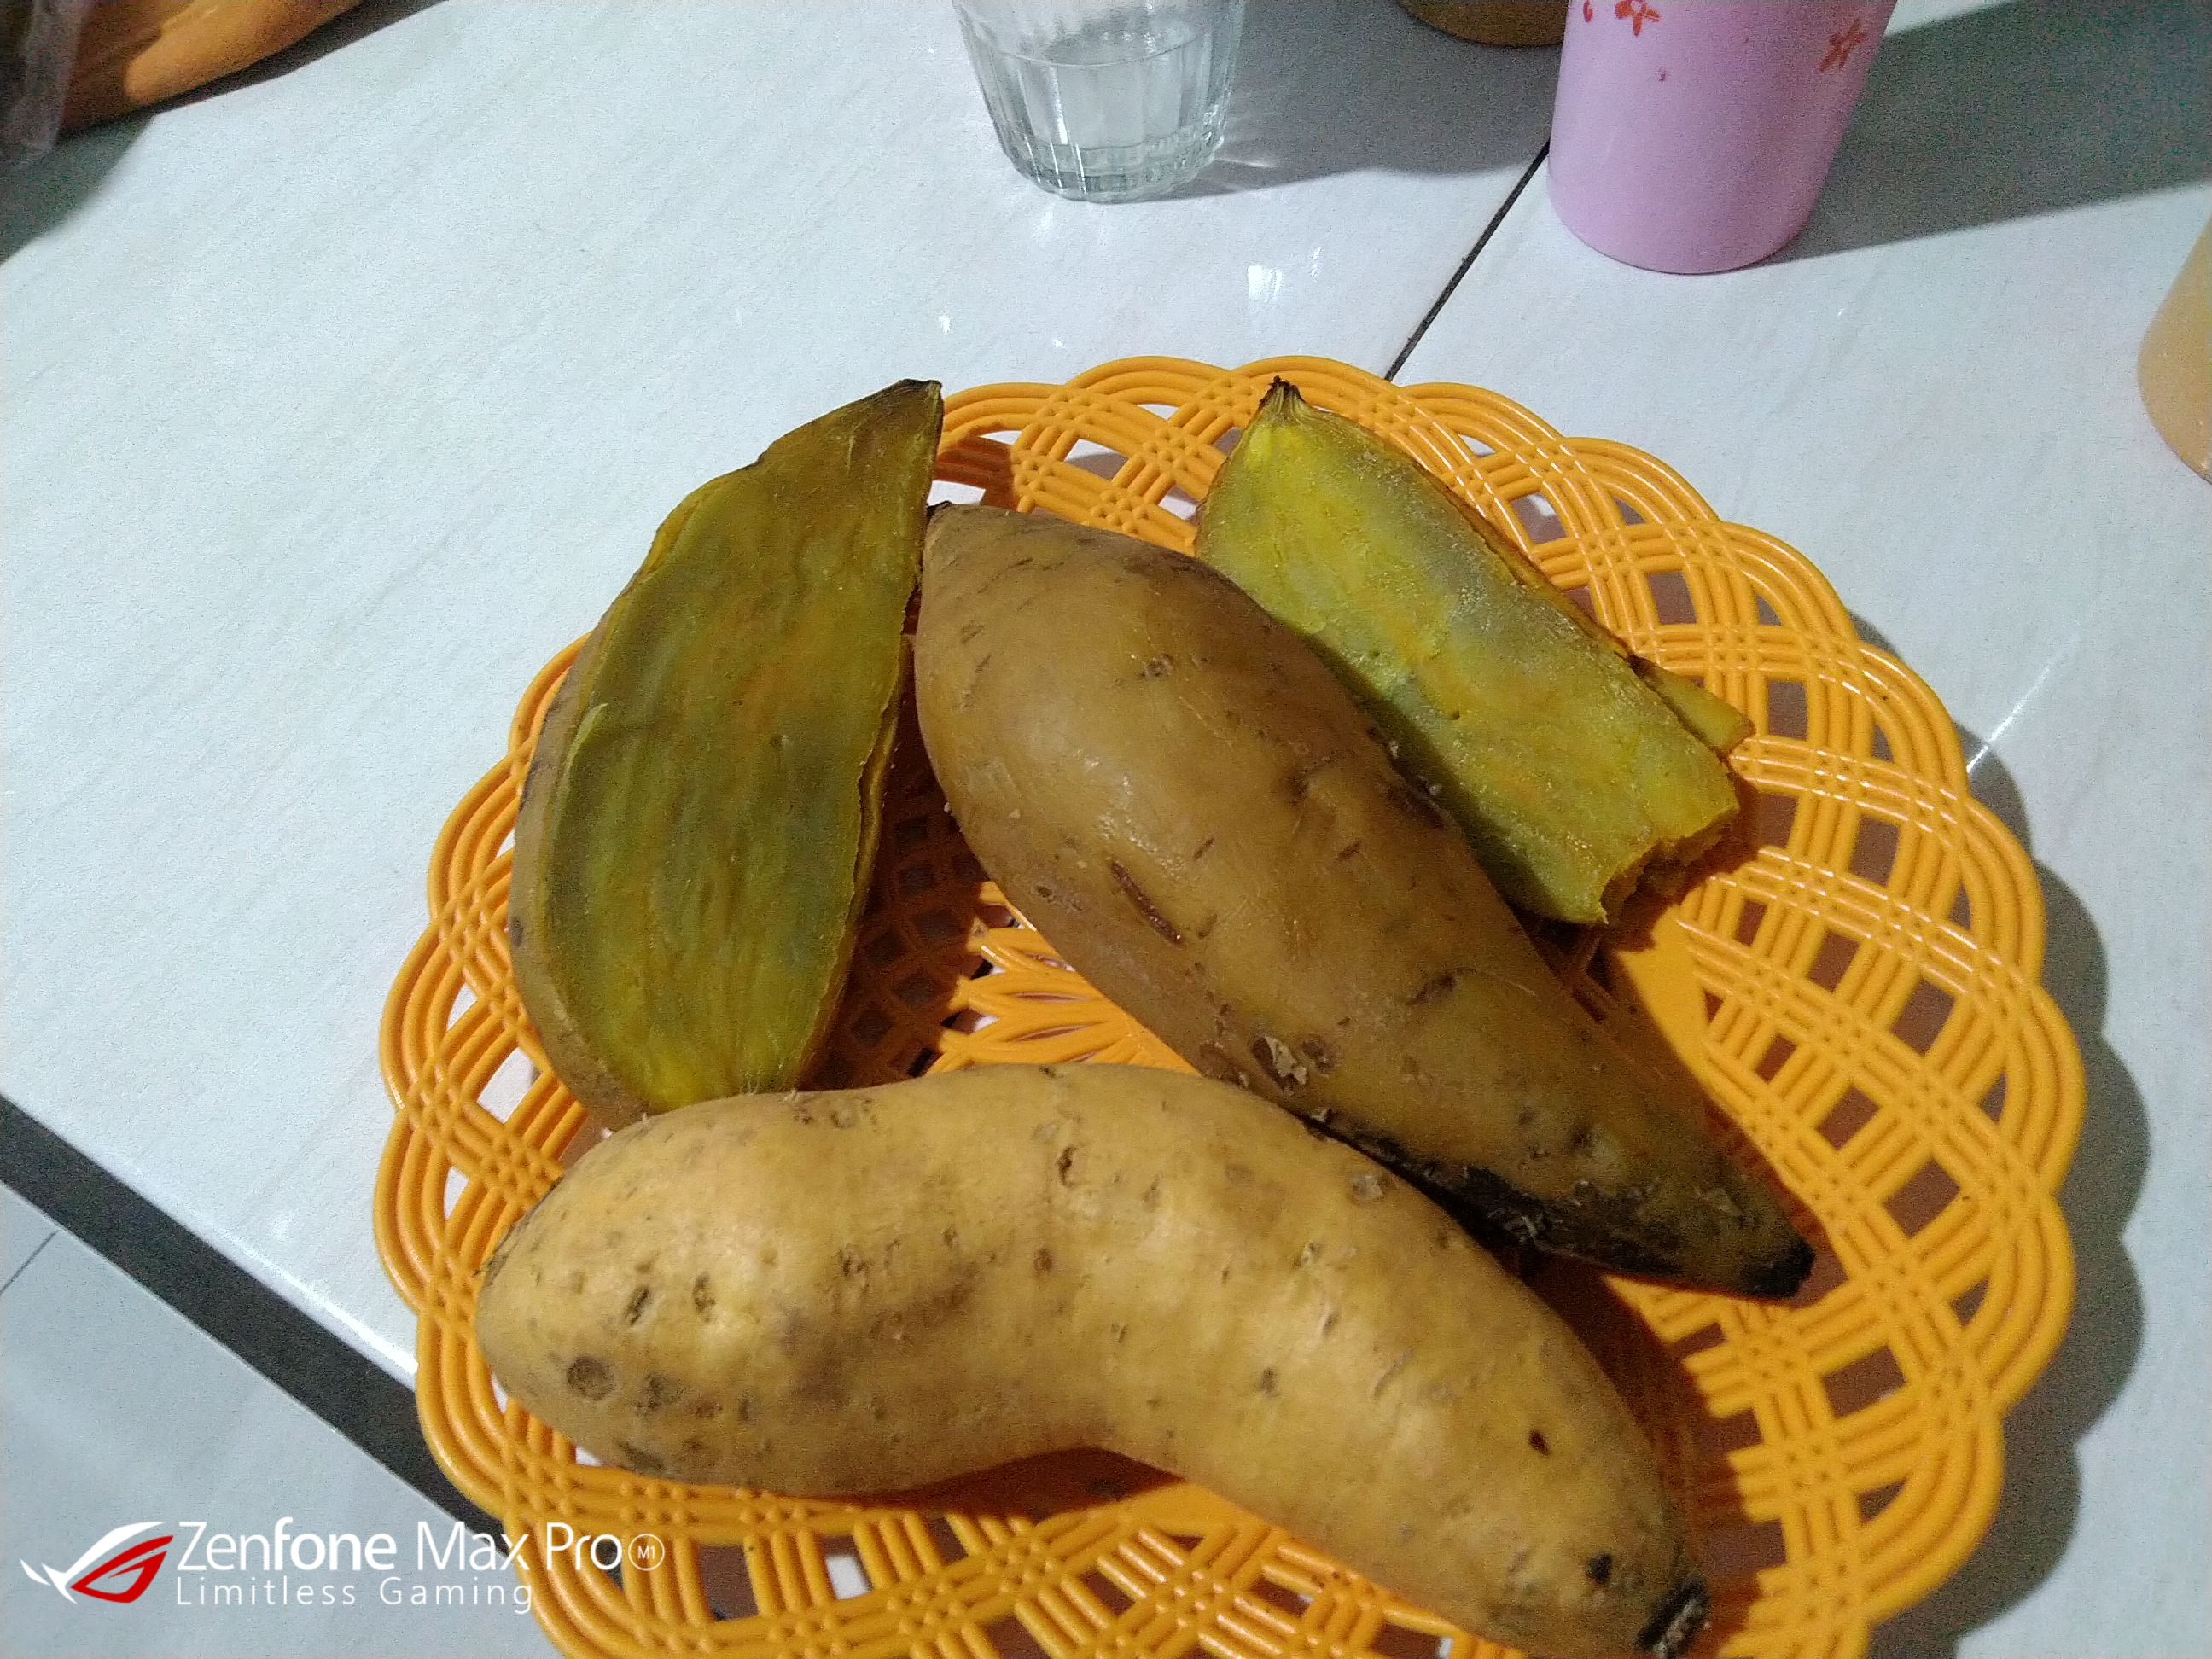ubi cilembu: (895, 357, 1871, 1309), (465, 1051, 1714, 1647), (491, 355, 949, 1114), (1207, 383, 1738, 925)
